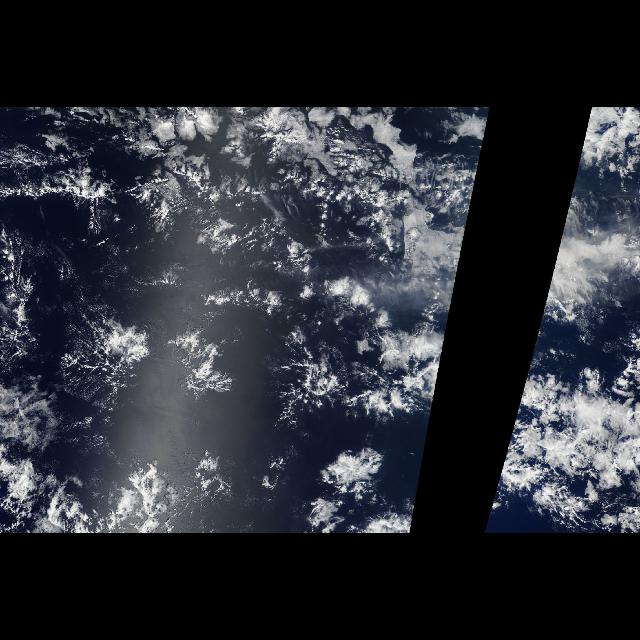Flower: (1, 245, 446, 533)
